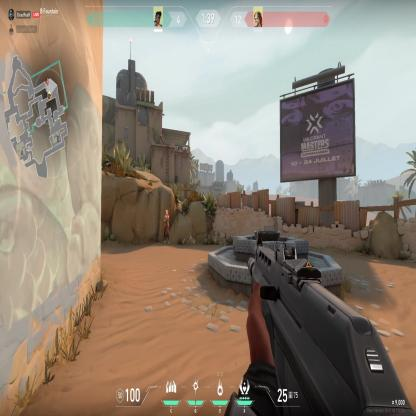enemy: (162, 208, 171, 244)
